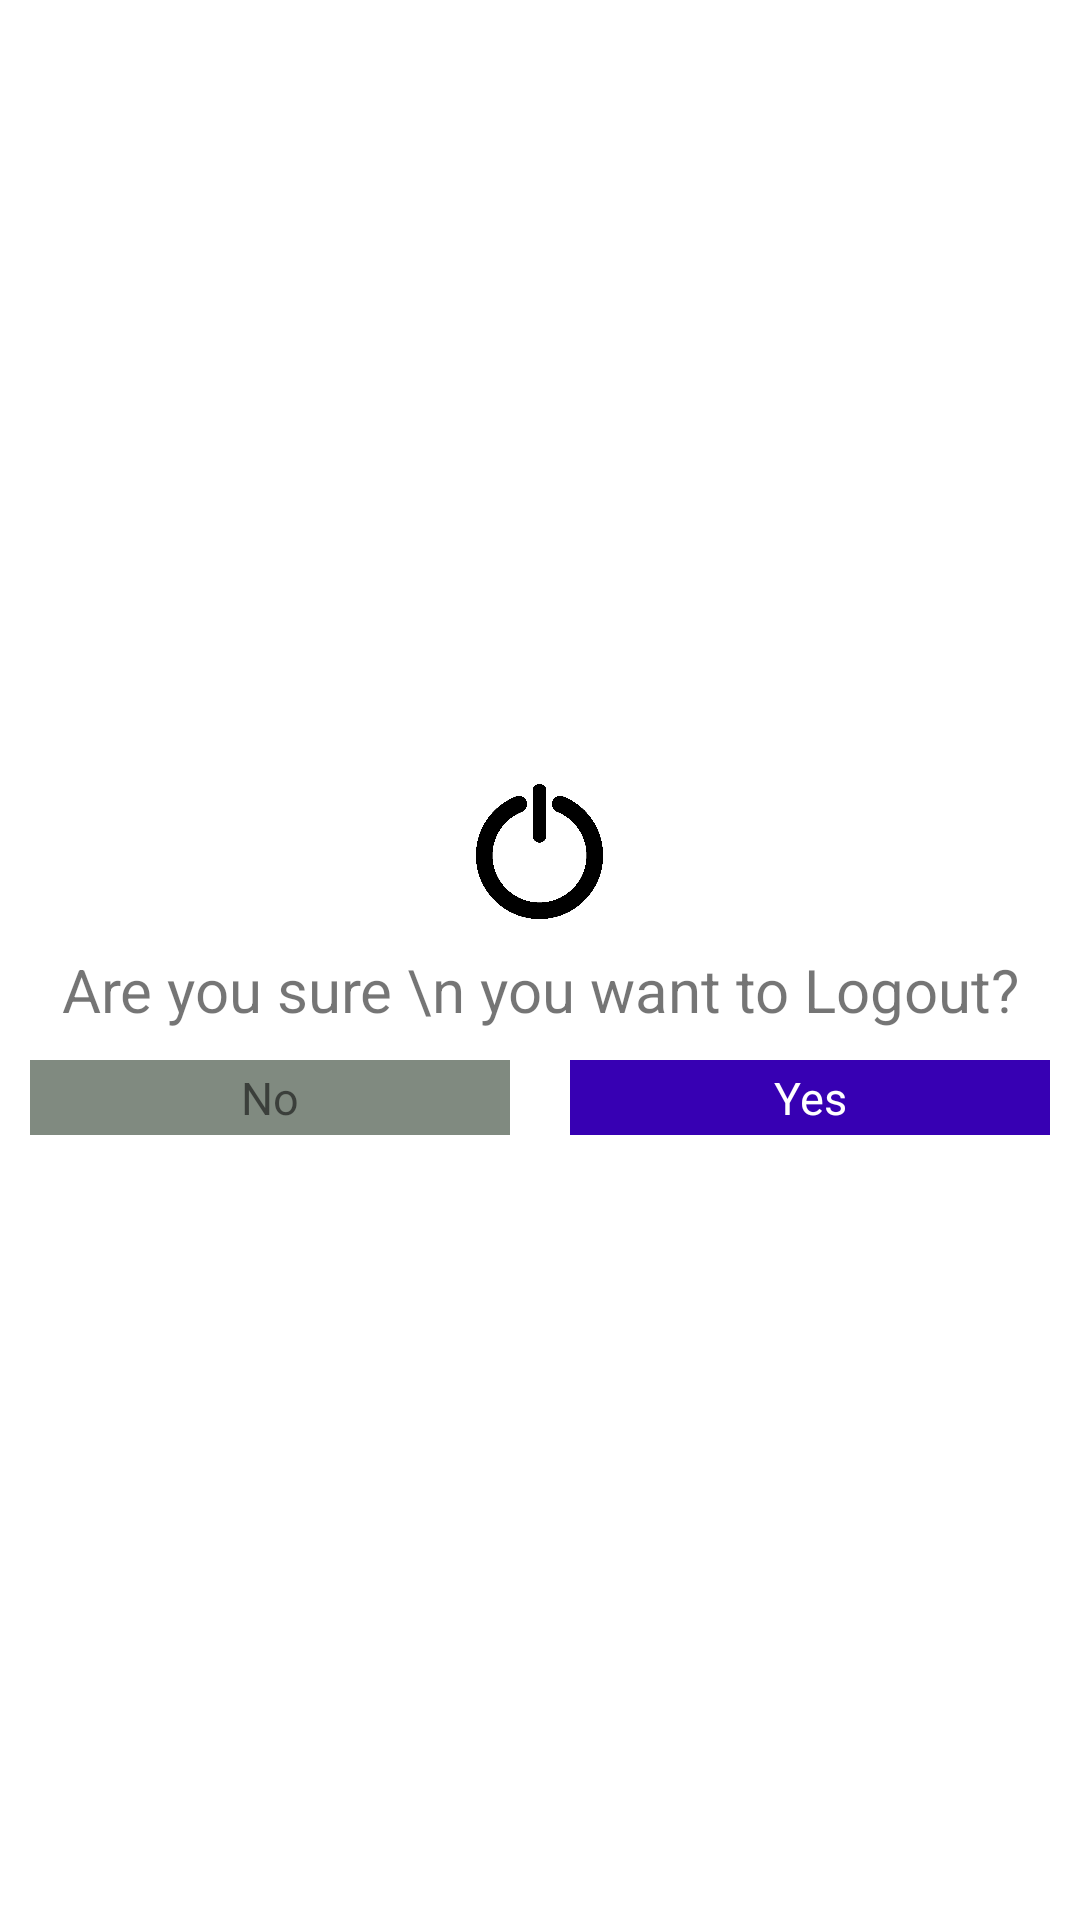

Screen size 1080w x 1920h. Icon name, then its center in pixels as [x,y]:
off: [539,851]
